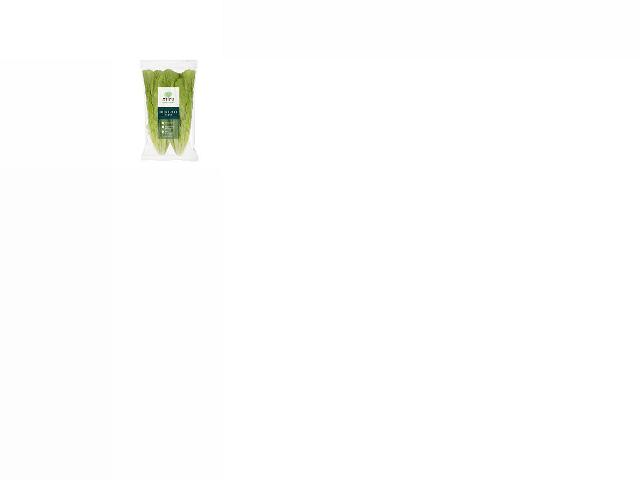lettuce: (142, 66, 202, 156)
